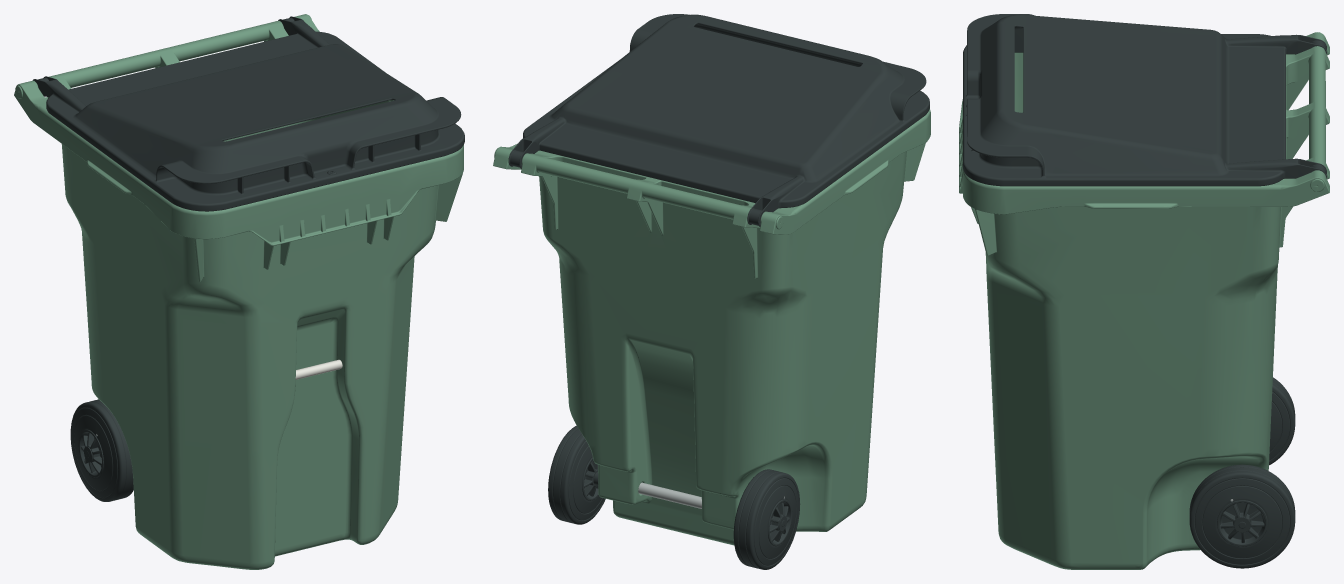
The model's file is trashCan_wheeled_green_a01.glb.
3 renders of one model, left to right at view 1: azimuth 30°, elevation 25°; view 2: azimuth 150°, elevation 25°; view 3: azimuth 270°, elevation 25°, orthographic. The views are drawn at different scales.
Bounding box in the file's own units: 0.8353 × 1.17 × 0.8764.
